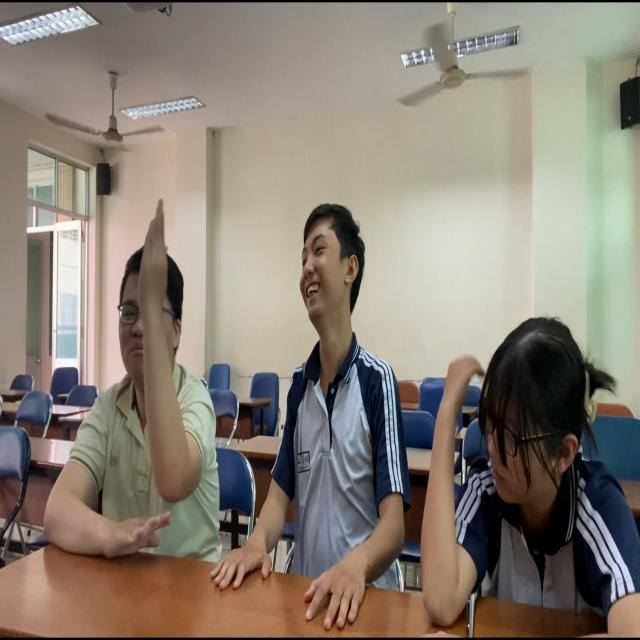raise_hand: (417, 319, 634, 634), (45, 192, 215, 564)
